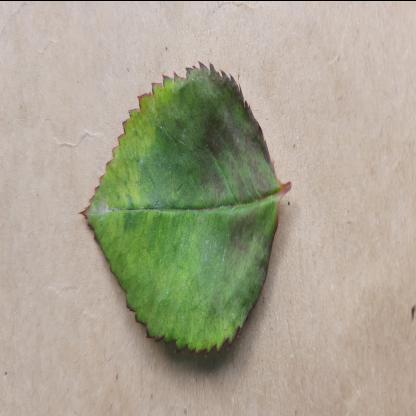downy-mildew: (76, 63, 276, 359)
